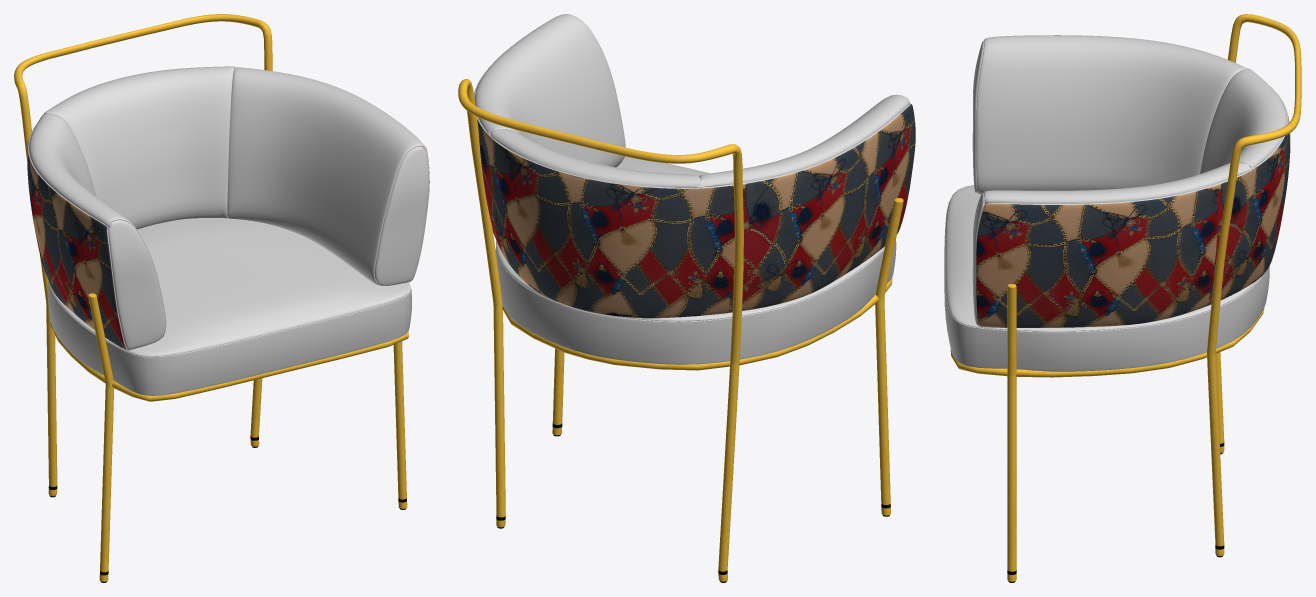
File: SLN_Hester_1.glb
3 views of the same model, side by side, from view 1: azimuth 30°, elevation 25°; view 2: azimuth 150°, elevation 25°; view 3: azimuth 270°, elevation 25° (orthographic). The views are drawn at different scales.
Visible parts, largest first — view 1: Hester_1; view 2: Hester_1; view 3: Hester_1.
Boxes of the visible parts, <box> form: Hester_1: <box>14,14,429,582</box>; Hester_1: <box>458,14,915,582</box>; Hester_1: <box>944,14,1301,582</box>.
Size of the model in its own units: 0.7053 by 0.8388 by 0.6318.
Materials: 4 (2 with a texture image).
